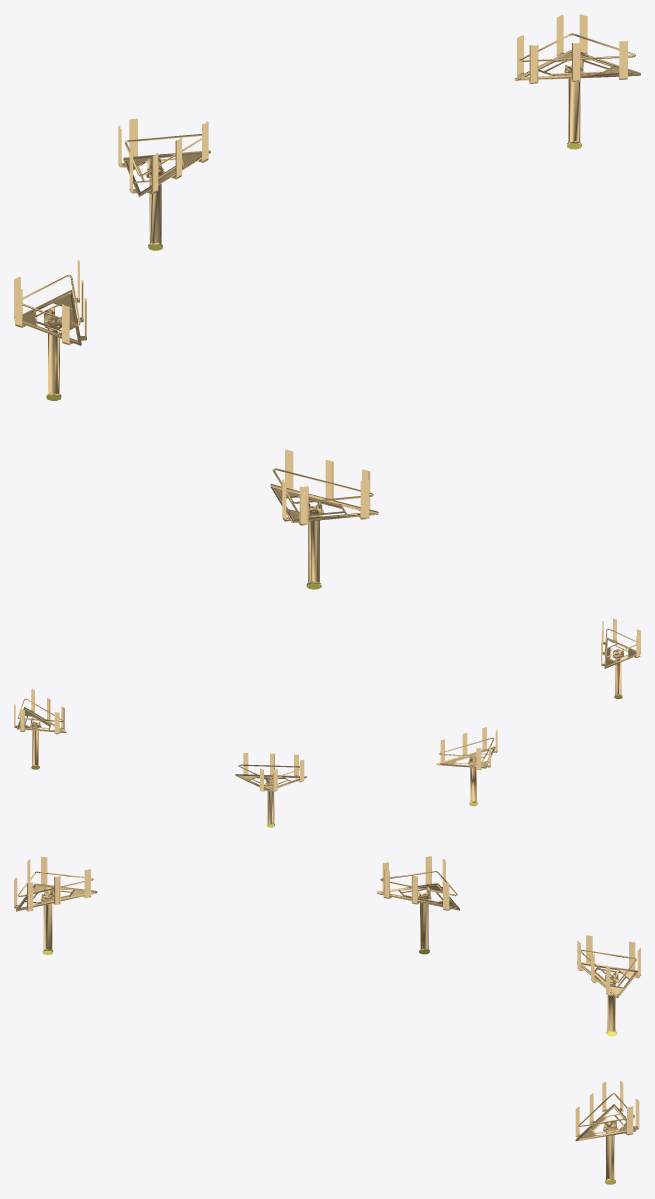
Rendered from landing_pad_floodlights.glb.
3 renders of one model, top to bottom at view 1: azimuth 30°, elevation 25°; view 2: azimuth 150°, elevation 25°; view 3: azimuth 270°, elevation 25°, orthographic. The views are drawn at different scales.
Size of the model in its own units: 43.91 by 6.67 by 45.11.
